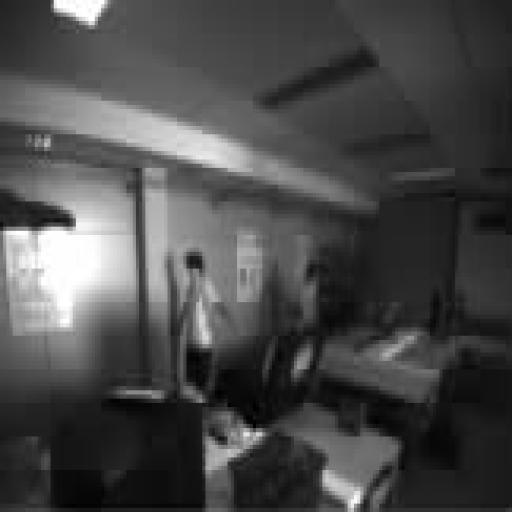human: (181, 252, 230, 402), (298, 261, 319, 331)
